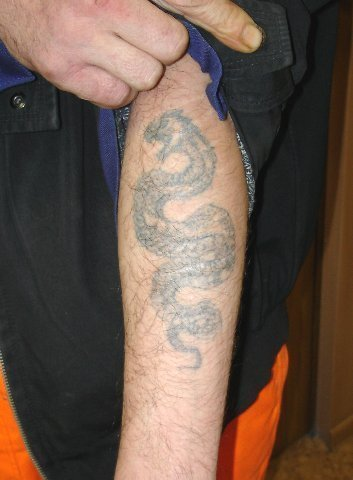tatu7_zmeya: (144, 101, 252, 360)
